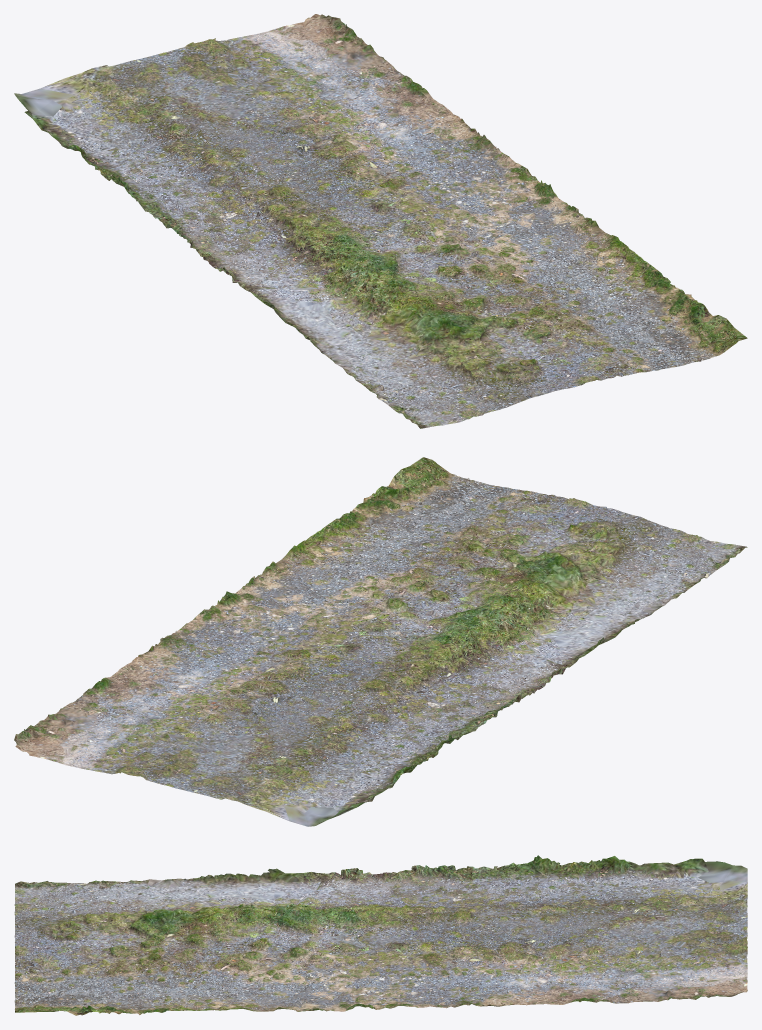
Rendered from camino.glb.
The picture shows the model from 3 angles, top to bottom: view 1: azimuth 30°, elevation 25°; view 2: azimuth 150°, elevation 25°; view 3: azimuth 270°, elevation 25°; orthographic projection. The views are drawn at different scales.
Parts seen in each view (by area): view 1: Object_2; view 2: Object_2; view 3: Object_2.
Part boxes in pixels (x1,y1,x2,y2): Object_2: (14,14,747,428); Object_2: (14,457,747,826); Object_2: (14,855,747,1015).
Size of the model in its own units: 1.83 by 0.1866 by 4.04.
Materials: 1 (1 with a texture image).
